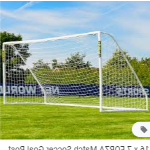goals: (2, 30, 149, 113)
